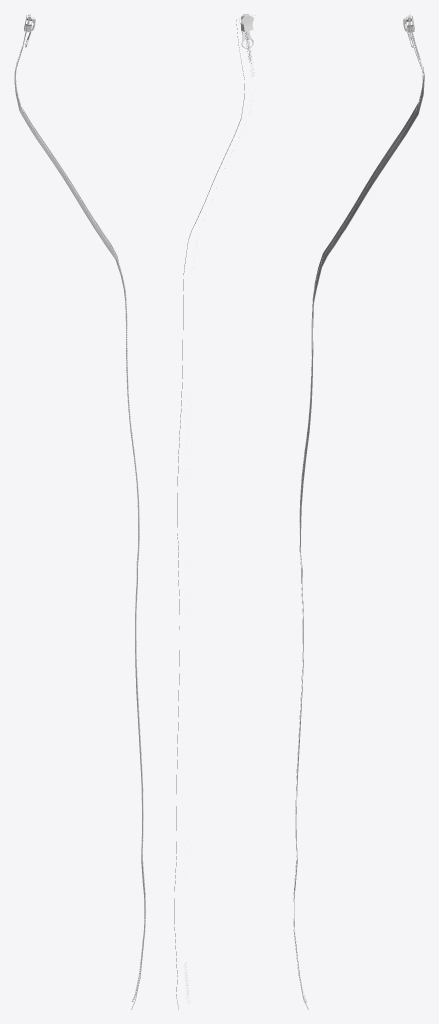
File: Ziplock_Center.glb
3 renders of one model, left to right at view 1: azimuth 90°, elevation 25°; view 2: azimuth 210°, elevation 25°; view 3: azimuth 270°, elevation 25°, orthographic. The views are drawn at different scales.
Visible parts, largest first — view 1: Ziplock_Center1, Cloth1; view 2: Cloth1, Ziplock_Center1; view 3: Cloth1, Ziplock_Center1.
Boxes of the visible parts, box(x1,y1,x2,y2) form: Ziplock_Center1: box(14, 14, 145, 1002); Cloth1: box(14, 14, 144, 1009); Cloth1: box(174, 15, 255, 1009); Ziplock_Center1: box(184, 14, 254, 1002); Cloth1: box(294, 14, 424, 1009); Ziplock_Center1: box(293, 15, 423, 1002).
Bounding box in the file's own units: 0.0364 × 1.42 × 0.1716.
Materials: 2 (2 with a texture image).
